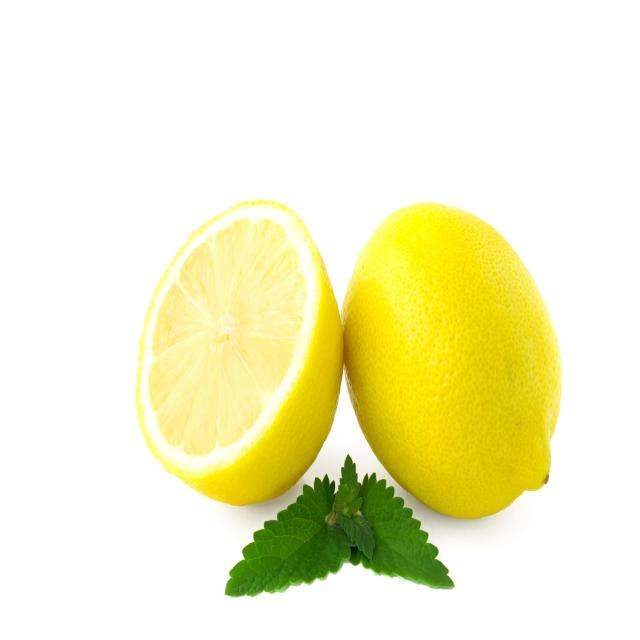lemon: (337, 193, 565, 526), (133, 194, 349, 512)
